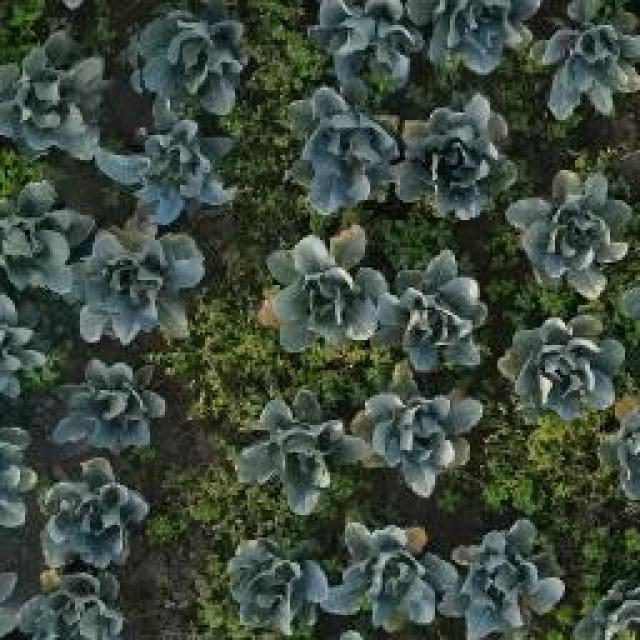cabbage: (255, 226, 386, 350), (66, 226, 204, 341), (347, 378, 484, 493), (509, 171, 628, 300), (443, 515, 564, 640), (287, 76, 395, 214), (396, 97, 518, 217), (124, 0, 249, 117), (0, 30, 105, 168), (95, 114, 230, 220), (331, 520, 455, 632), (498, 310, 623, 416), (240, 390, 344, 510), (42, 456, 154, 567), (541, 0, 640, 124), (380, 253, 484, 371), (225, 538, 330, 636), (408, 0, 536, 80), (299, 0, 416, 86), (55, 364, 168, 448), (0, 177, 80, 295), (16, 571, 122, 640)
